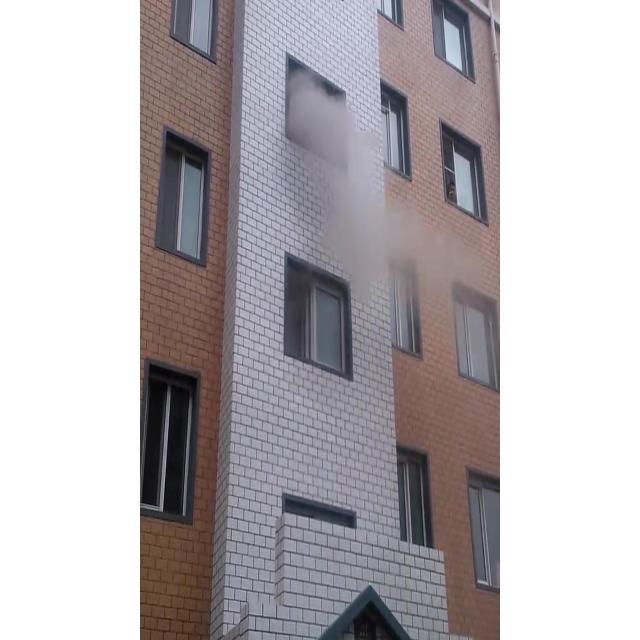smoke: (284, 75, 483, 302)
